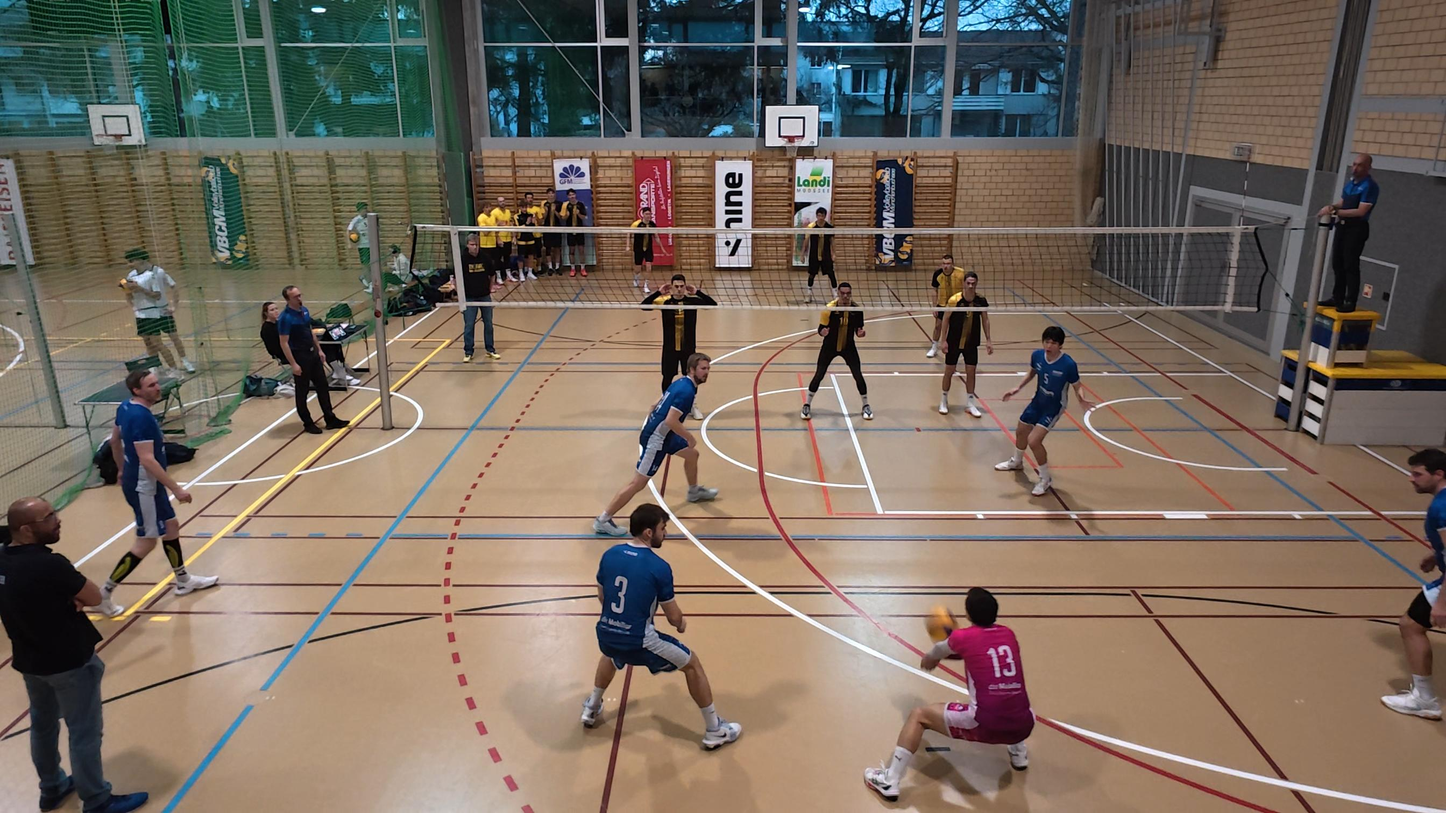ricezione: (862, 584, 1037, 802)
